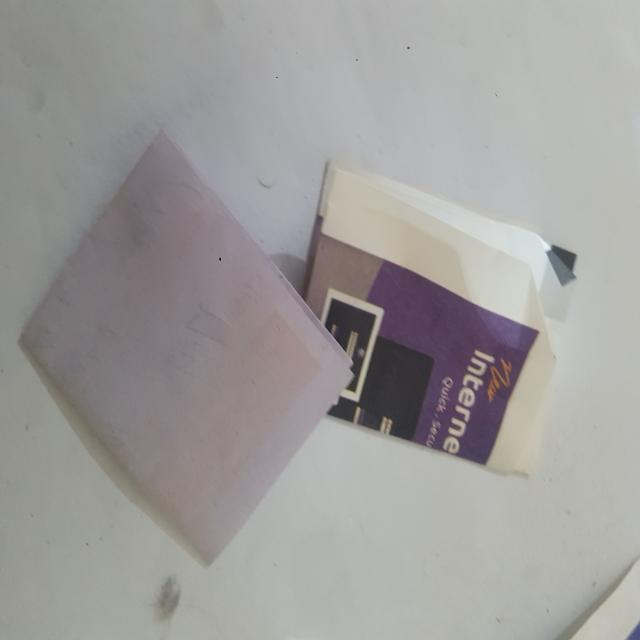electronic: (18, 127, 356, 567), (302, 163, 564, 478)
